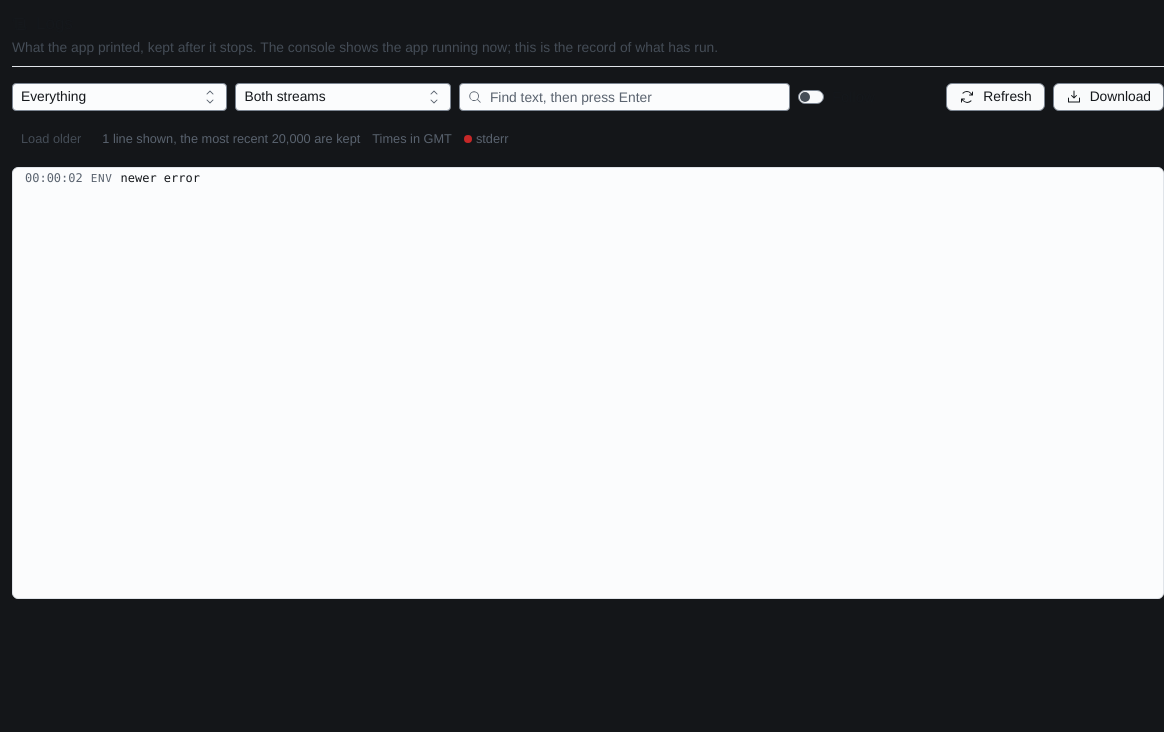
Scenario: logs › keeps the filter when loading older output
(page scrolled)
Select "Errors (stderr)" in the dropdown named "Which stream". click: (343,97)
box: [236,84,450,110]
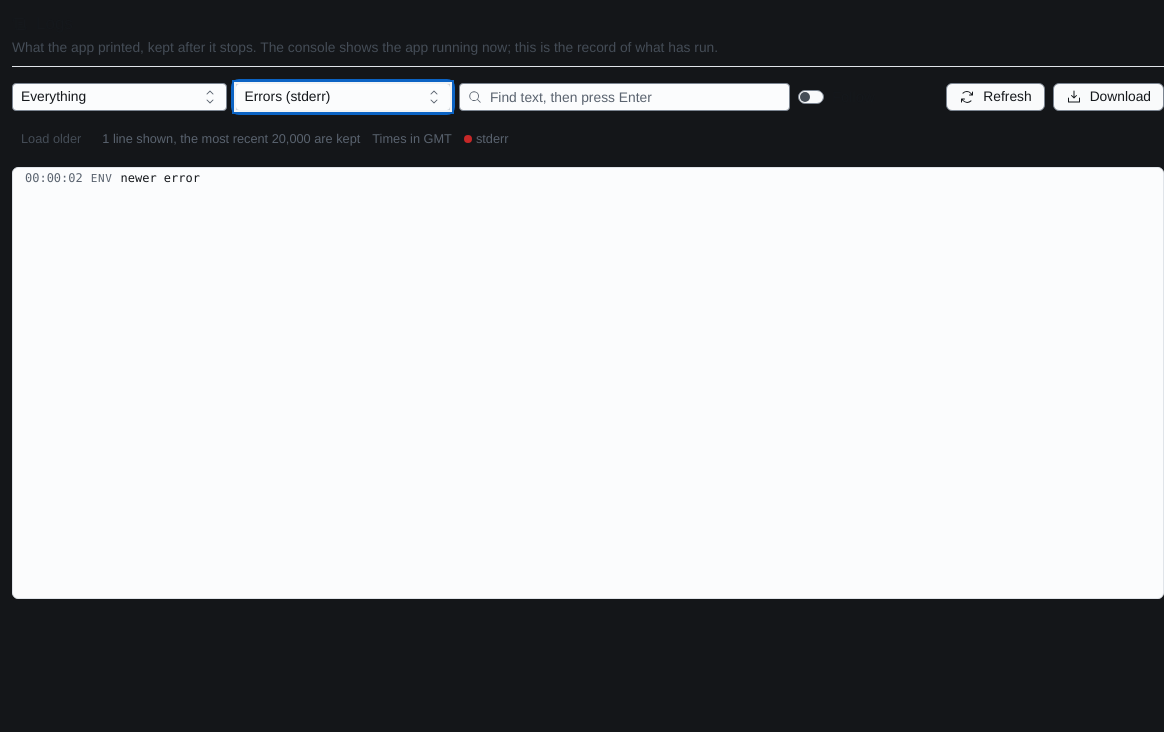
Type "error" into the search field named "Find in output". click: (635,97)
box: [482,84,789,110]
Then press Enter
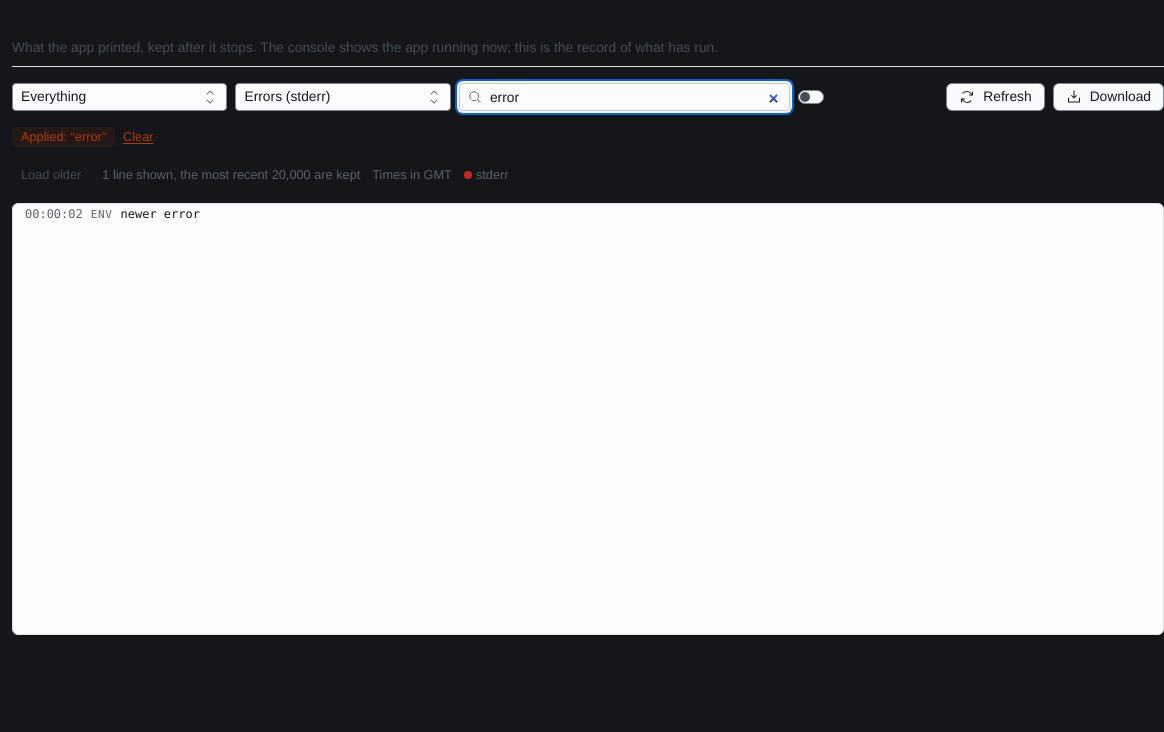
Expected: the text "Applied: “error”" is shown, [12,127,115,147]
Click the button "Load older". click: (51,175)
box: [12,163,90,187]
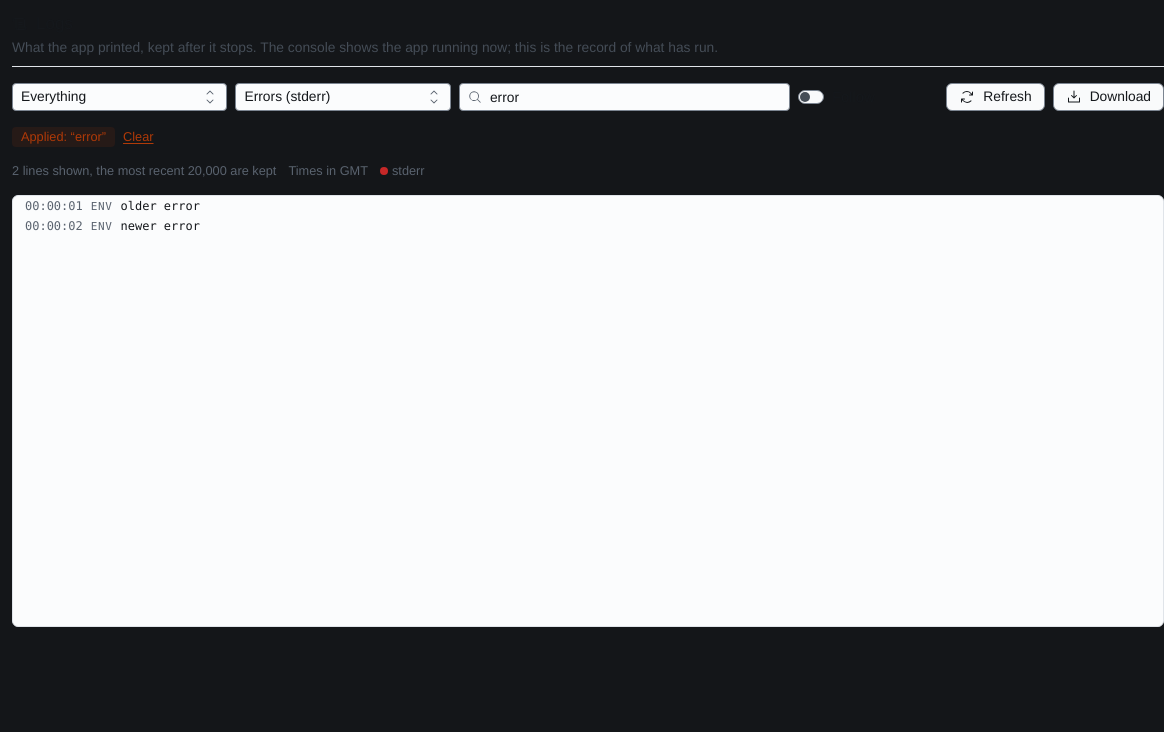
Expected: the text "older error" is shown, [121,198,200,214]
